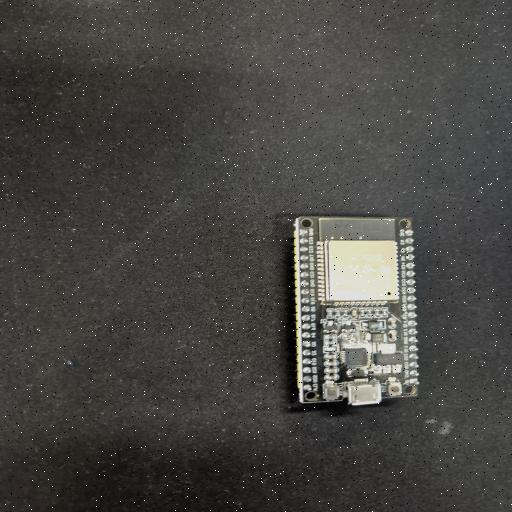esp32-dev: (295, 217, 418, 405)
